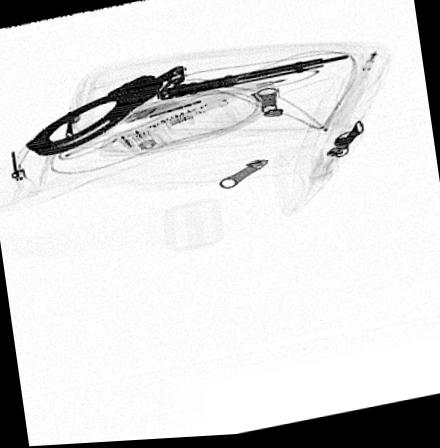HandCuffs: (25, 56, 353, 157)
